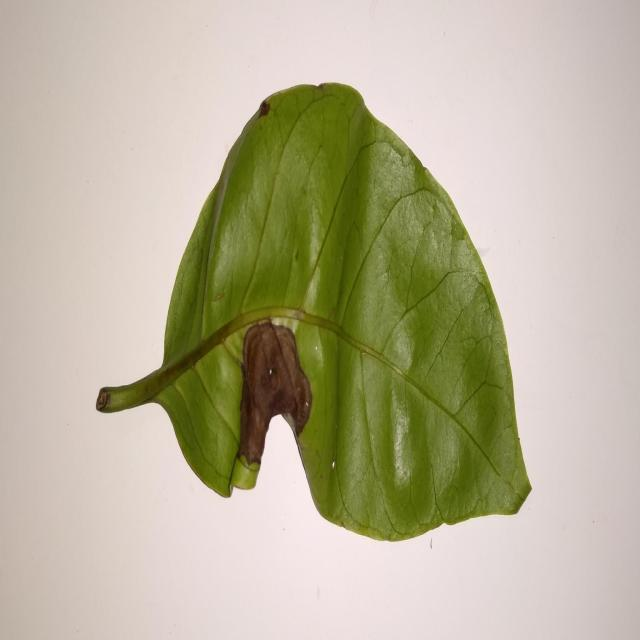phoma: (237, 318, 312, 470)
